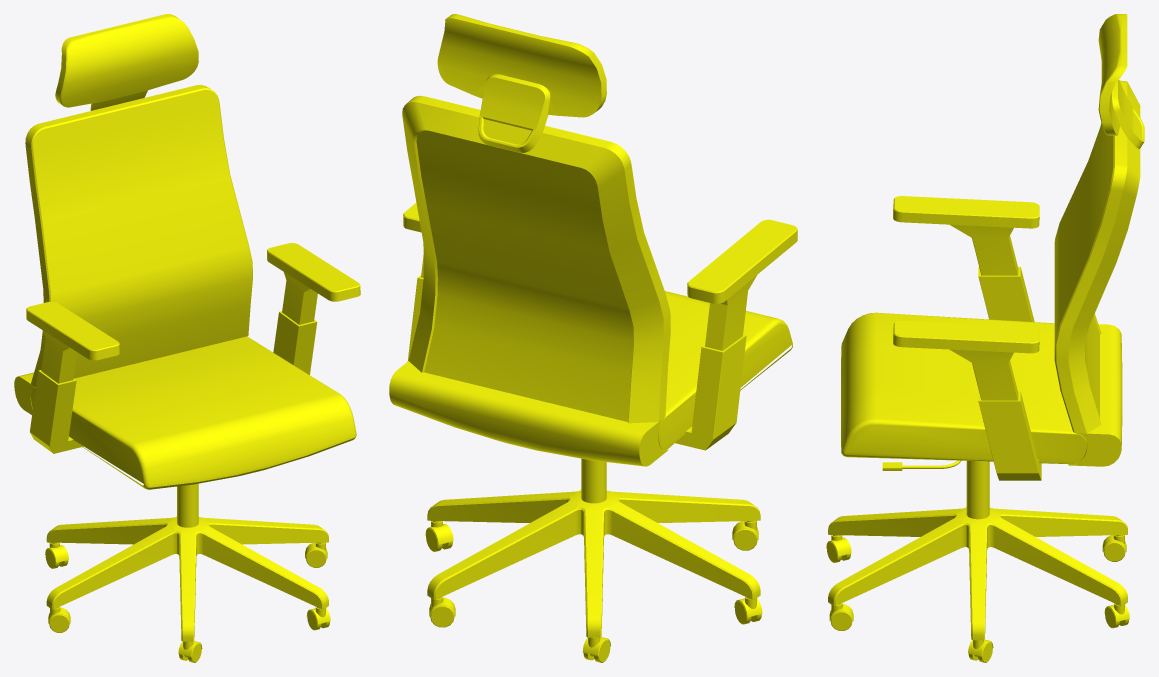
The model's file is chair.glb.
The picture shows the model from 3 angles, left to right: view 1: azimuth 30°, elevation 25°; view 2: azimuth 150°, elevation 25°; view 3: azimuth 270°, elevation 25°; orthographic projection. The views are drawn at different scales.
Visible parts, largest first — view 1: Main, Wheels, Top, handrest; view 2: Main, Wheels, Top, handrest; view 3: Main, Wheels, handrest, Top.
Boxes of the visible parts, x1=… form: Main: x1=14, y1=84, x2=356, y2=489; Wheels: x1=45, y1=483, x2=330, y2=662; Top: x1=55, y1=14, x2=198, y2=110; handrest: x1=26, y1=243, x2=360, y2=383; Main: x1=389, y1=95, x2=792, y2=466; Wheels: x1=425, y1=458, x2=762, y2=662; Top: x1=437, y1=14, x2=606, y2=152; handrest: x1=403, y1=203, x2=797, y2=350; Main: x1=841, y1=80, x2=1140, y2=480; Wheels: x1=826, y1=461, x2=1129, y2=662; handrest: x1=893, y1=196, x2=1039, y2=400; Top: x1=1098, y1=14, x2=1144, y2=148.
Bounding box in the file's own units: 1.22 × 2.14 × 1.12.
3 materials, 3 textured.
